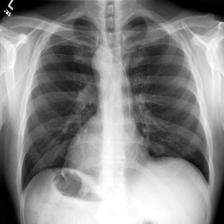normal: (19, 11, 214, 191)
